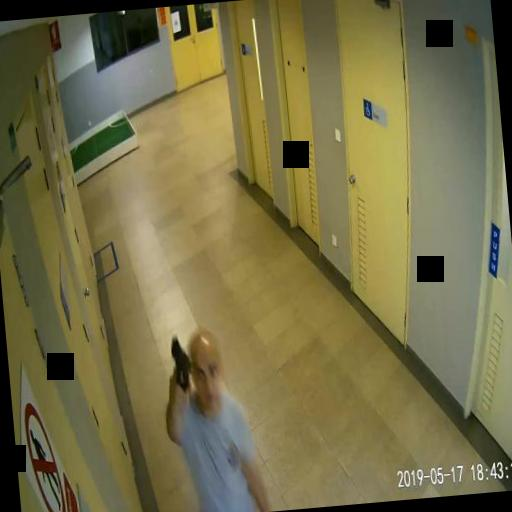Handgun: (166, 333, 192, 394)
